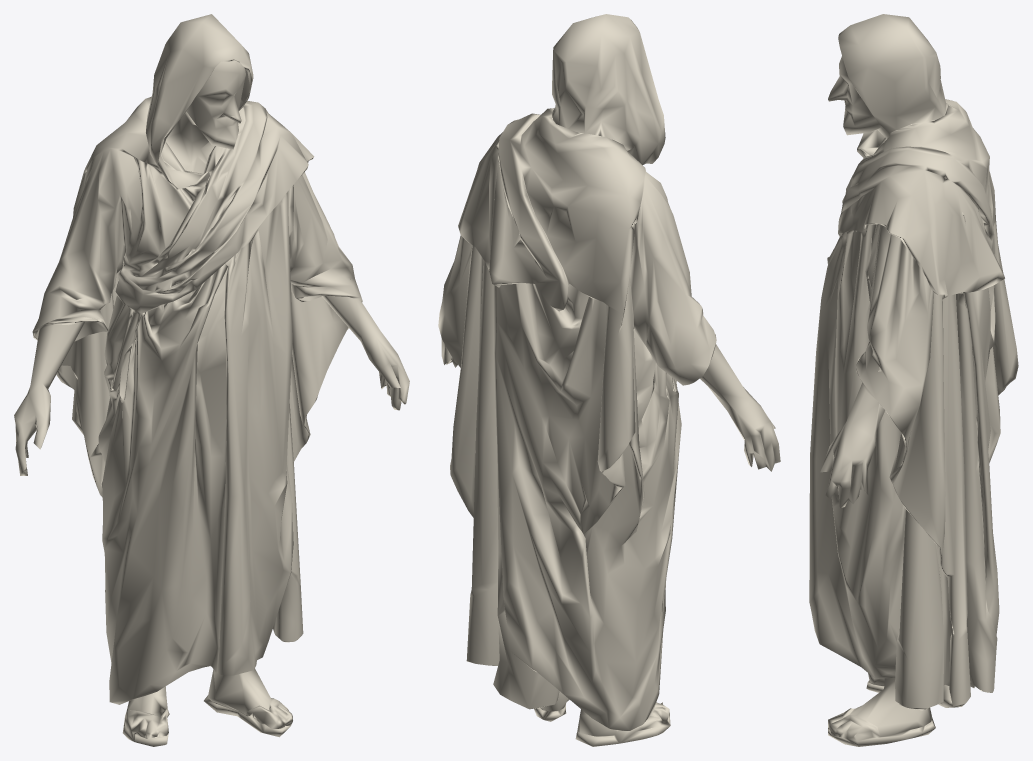
File: pontifice.glb
3 views of the same model, side by side, from view 1: azimuth 30°, elevation 25°; view 2: azimuth 150°, elevation 25°; view 3: azimuth 270°, elevation 25° (orthographic).
Parts seen in each view (by area): view 1: pontifice; view 2: pontifice; view 3: pontifice.
Boxes of the visible parts, left/top/right/bottom form: pontifice: left=14, top=14, right=409, bottom=746; pontifice: left=438, top=14, right=780, bottom=746; pontifice: left=809, top=14, right=1018, bottom=746.
Size of the model in its own units: 0.9669 by 1.8 by 0.489.
